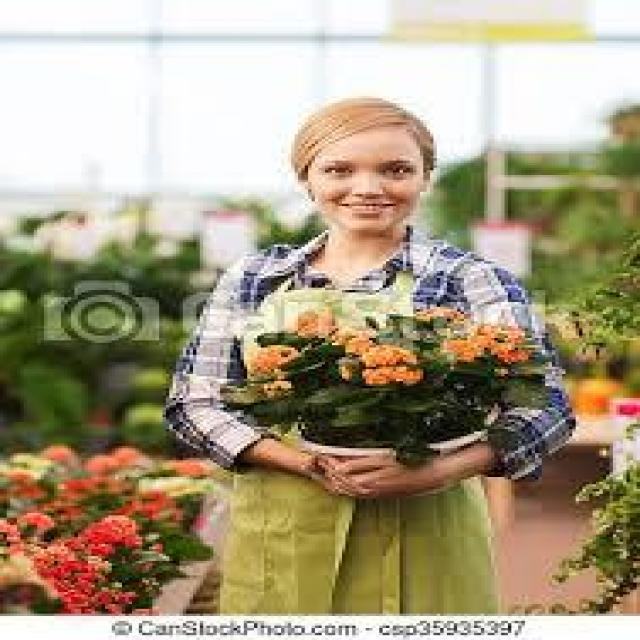organic waste: (447, 330, 538, 366), (250, 340, 304, 386), (355, 338, 420, 369), (364, 362, 428, 386)
